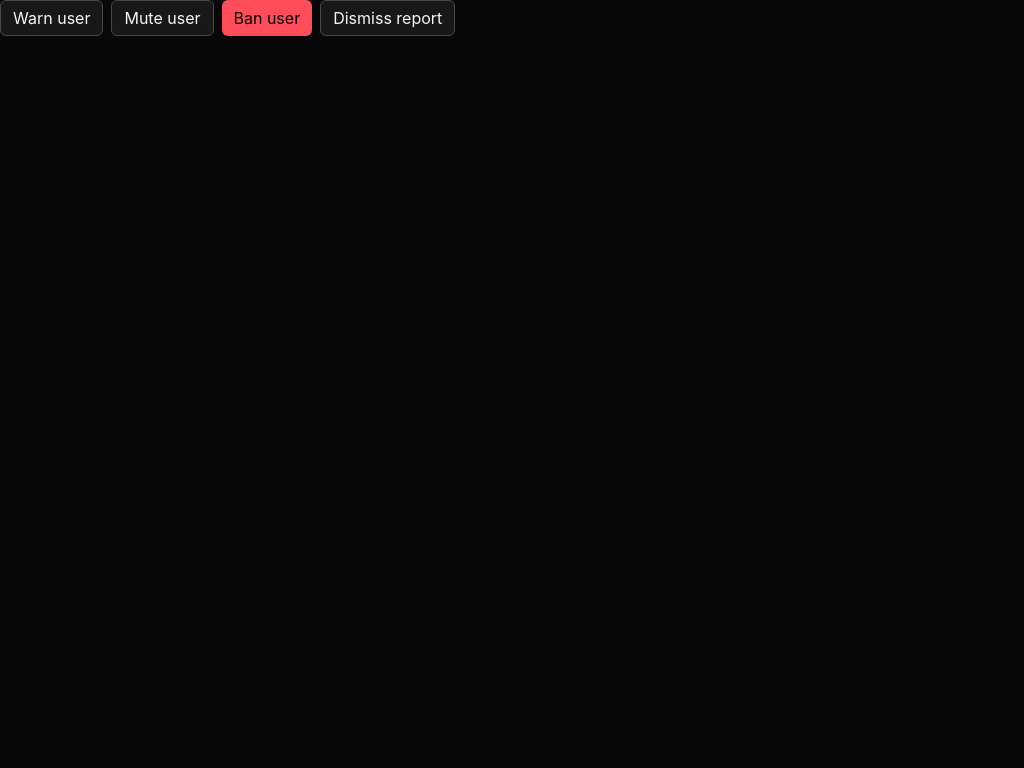
moderation report actions › shows a duration picker only for a temporary mute
Click the button "Mute user": {"x": 162, "y": 18} [111, 0, 214, 36]
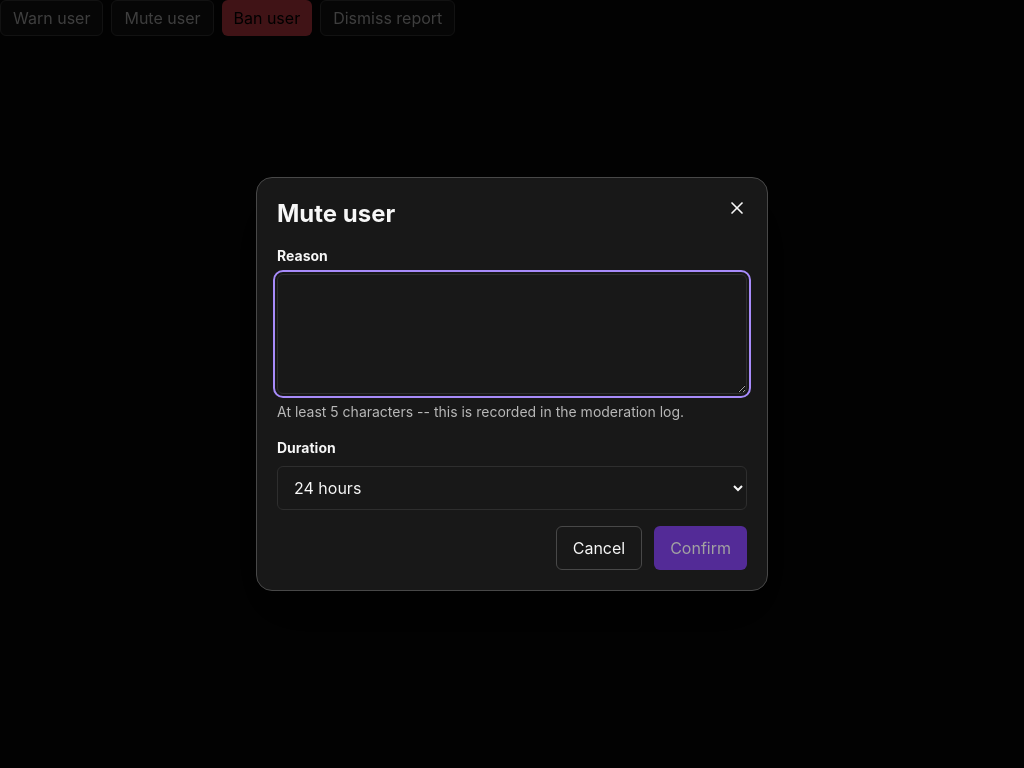
Result: the dropdown labelled "Duration" is shown at [277, 466, 747, 510]
